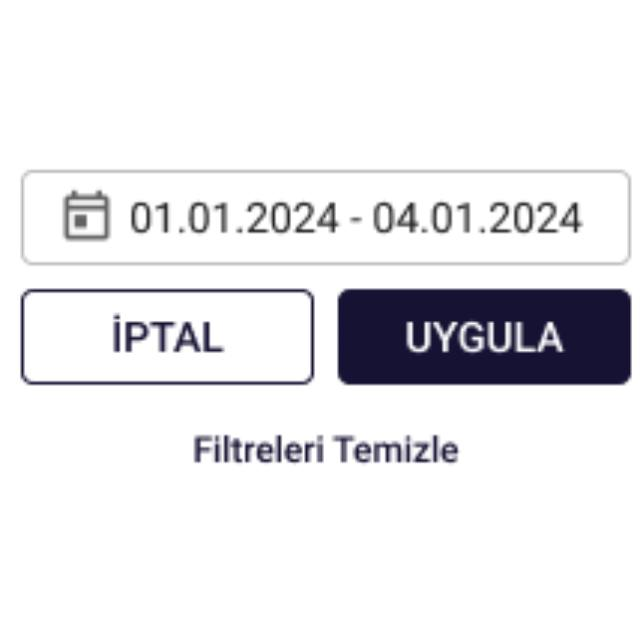QLabel: (192, 433, 460, 467), (403, 316, 565, 356), (108, 310, 226, 356)
VBtn: (336, 286, 632, 386), (19, 286, 314, 386)
VInlineDatepicker: (20, 168, 632, 266)
